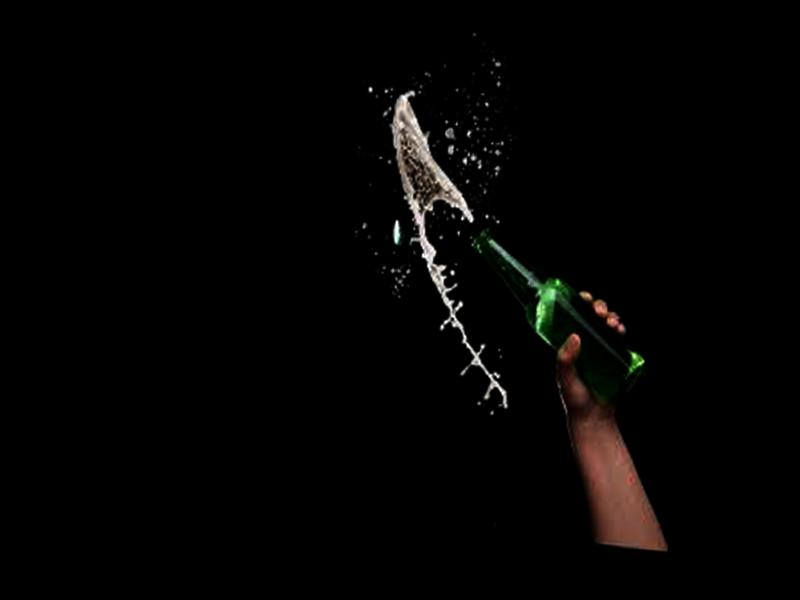Beer: (462, 227, 658, 407)
